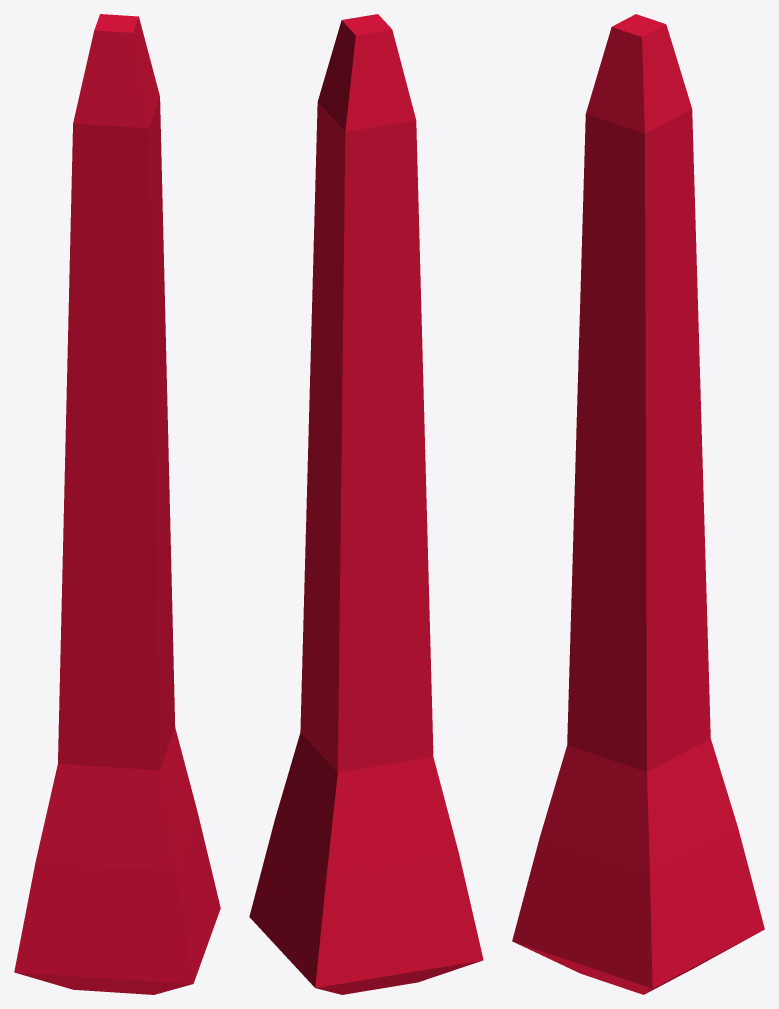
Rendered from H1_BluePlant_Corona2_Center2.gltf.
3 renders of one model, left to right at view 1: azimuth 30°, elevation 25°; view 2: azimuth 150°, elevation 25°; view 3: azimuth 270°, elevation 25°, orthographic.
Visible parts, largest first — view 1: H1_BluePlant_Corona2_Center2; view 2: H1_BluePlant_Corona2_Center2; view 3: H1_BluePlant_Corona2_Center2.
Boxes of the visible parts, x1,y1,x2,y2 form: H1_BluePlant_Corona2_Center2: (14,14,220,994); H1_BluePlant_Corona2_Center2: (249,14,483,994); H1_BluePlant_Corona2_Center2: (512,14,764,994).
Size of the model in its own units: 0.3048 by 1.26 by 0.3048.
